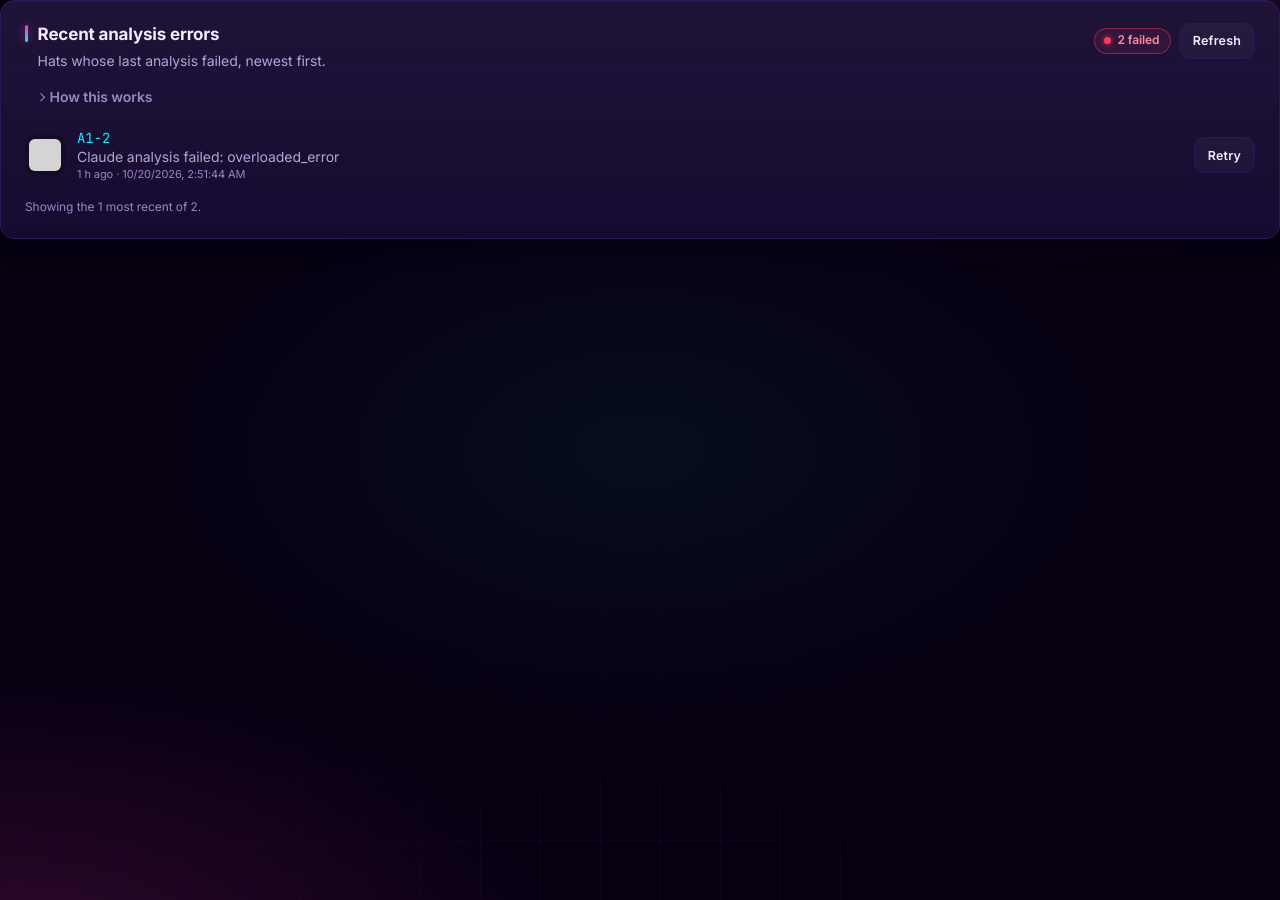
RecentErrorsCard › retries one hat in place and says so
Click the button with aria-label "Retry analysis for A1-2": click(1224, 155) [1194,137,1255,173]
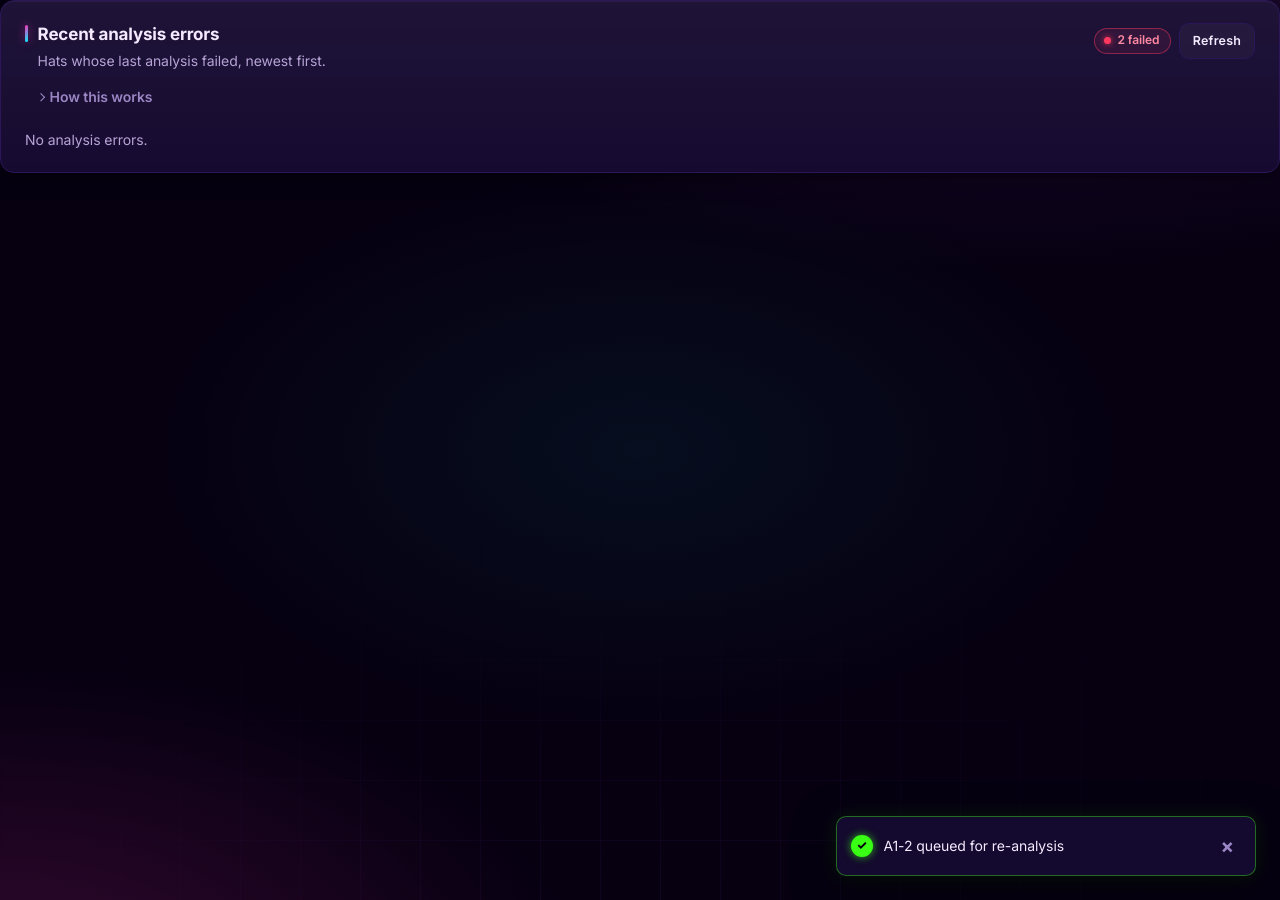
Expected: the text "A1-2 queued for re-analysis" is shown, [883,837,1064,854]
Expected: the text "No analysis errors." is shown, [25,131,148,148]
